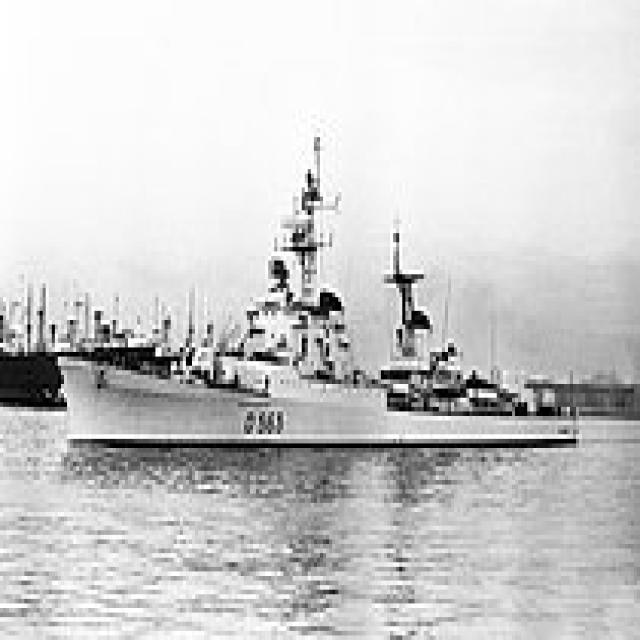Warship: (49, 123, 579, 448)
